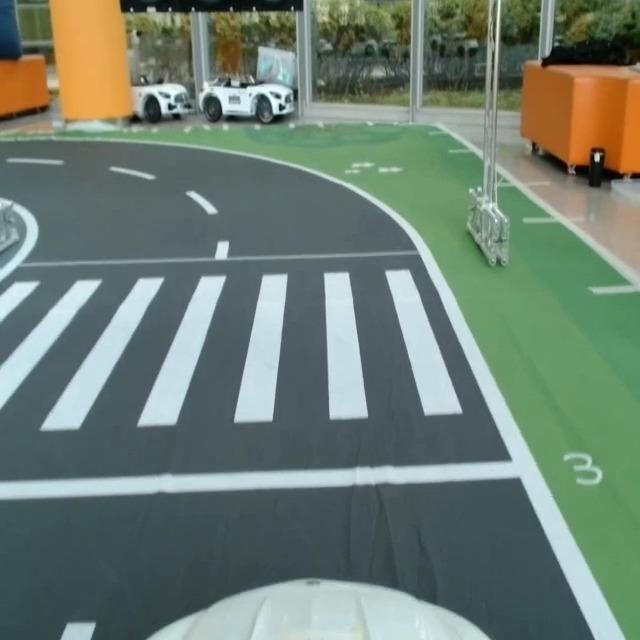traffic-light: (111, 0, 314, 15)
